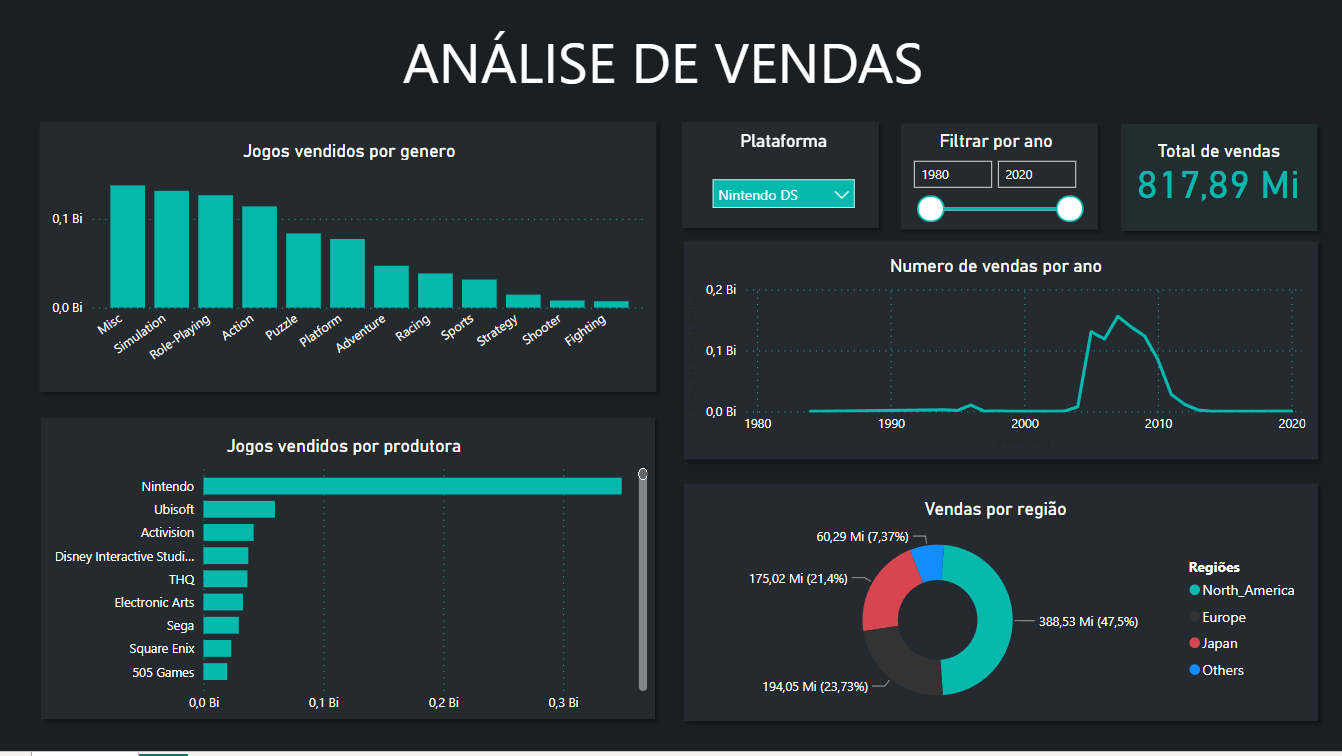

What the dashboard file says about the page in this screenshot:
{"tool":"powerbi","page":{"name":"Página 1","canvas":[1280,720],"ordinal":0},"visuals":[{"type":"card","title":"Total de vendas","fields":{"Values":["Sum(sales.Vendas_Milhoes)"]},"box":[1074.6,136.9,174.9,75],"z":0},{"type":"lineChart","title":"Numero de vendas por ano","fields":{"Y":["Sum(sales.Vendas_Milhoes)"],"Category":["games.game_year"]},"box":[650.6,246.7,598.2,188.8],"z":1000},{"type":"slicer","title":"Filtrar por ano","fields":{"Values":["games.game_year"]},"box":[858.8,126.8,182,95.1],"z":2000},{"type":"donutChart","title":"Vendas por região","fields":{"Category":["regions.region_name"],"Y":["Sum(sales.Vendas_Milhoes)"]},"box":[651,464.1,597.4,226.1],"z":3000},{"type":"barChart","title":"Jogos vendidos por produtora","fields":{"Category":["publishers.publisher_name"],"Y":["Sum(sales.Vendas_Milhoes)"]},"box":[35.8,417.7,587.2,272.9],"z":4000},{"type":"slicer","title":"Plataforma","fields":{"Values":["platforms.platform_name"]},"box":[669.9,126.8,155.8,95.1],"z":5000},{"type":"columnChart","title":"Jogos vendidos por genero","fields":{"Y":["Sum(sales.Vendas_Milhoes)"],"Category":["games.game_genre"]},"box":[46.9,136.5,576.2,230.2],"z":6000},{"type":"textbox","box":[35.8,20.7,1224,84.1],"z":7000}]}

Visuals, with their boxes in screenshot pixels (x1, y1, x2, y2), scaled from the page's 1280x720 canvas onto the 1342x756 screenshot:
"Total de vendas" card: <box>1127,144,1310,222</box>
"Numero de vendas por ano" lineChart: <box>682,259,1309,457</box>
"Filtrar por ano" slicer: <box>900,133,1091,233</box>
"Vendas por região" donutChart: <box>683,487,1309,725</box>
"Jogos vendidos por produtora" barChart: <box>38,439,653,725</box>
"Plataforma" slicer: <box>702,133,866,233</box>
"Jogos vendidos por genero" columnChart: <box>49,143,653,385</box>
textbox: <box>38,22,1321,110</box>
